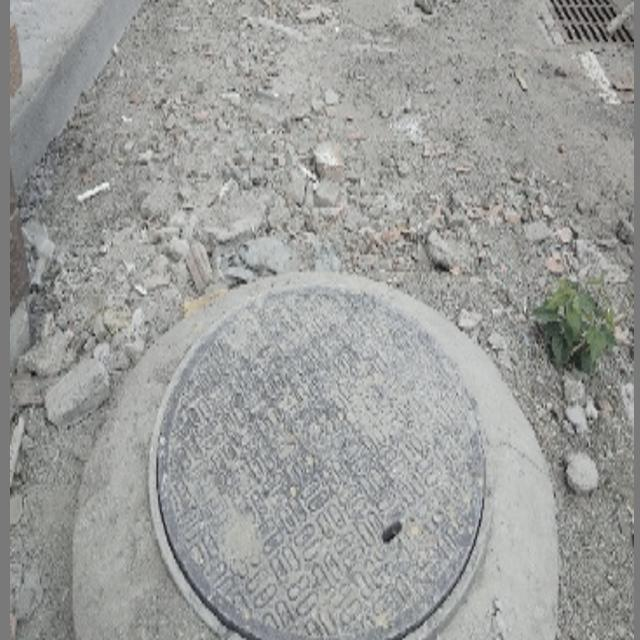good: (148, 286, 493, 640)
